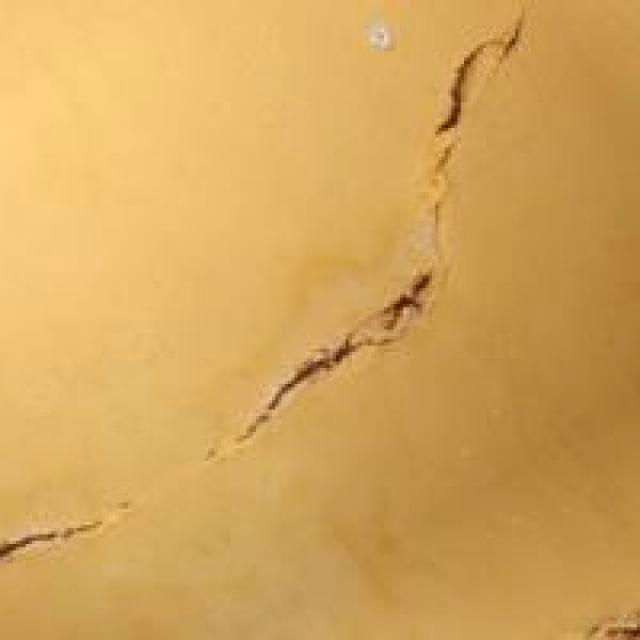crack: (200, 0, 608, 466), (0, 474, 138, 588)
